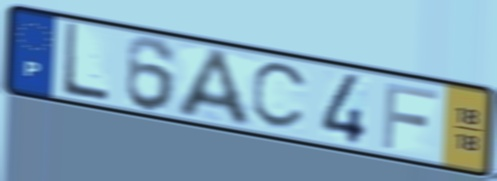4: (318, 71, 370, 148)
6: (123, 33, 178, 116)
A: (172, 46, 256, 131)
C: (249, 62, 313, 134)
F: (379, 79, 441, 152)
L: (60, 20, 111, 105)
